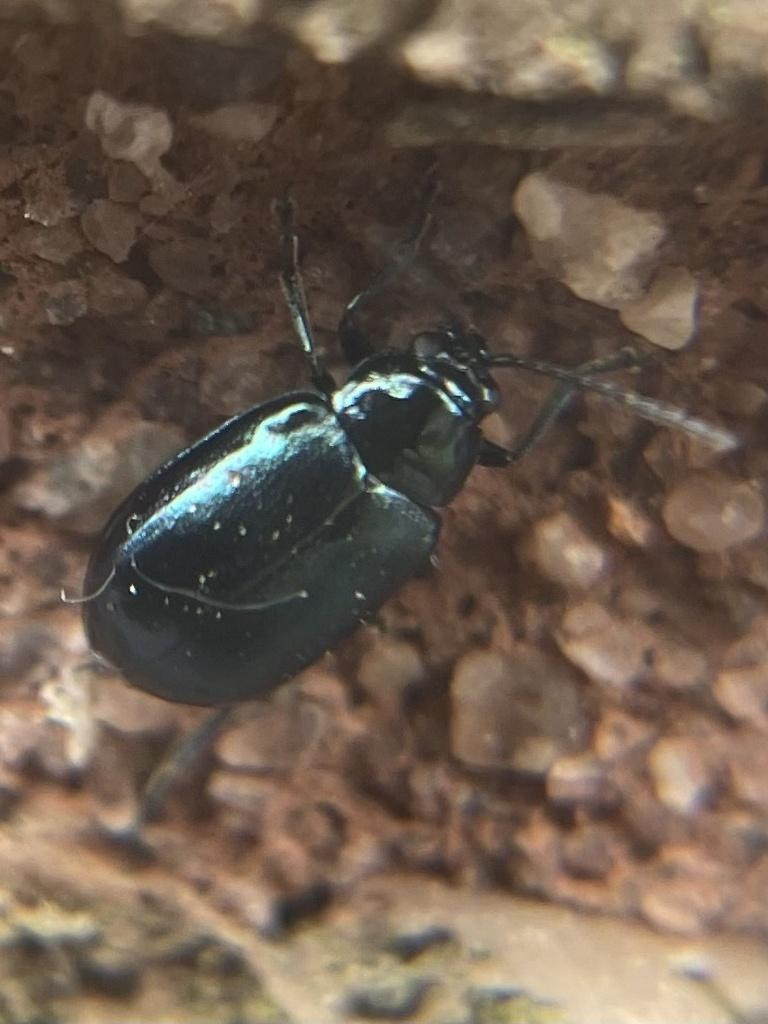flea_beetle: (0, 141, 768, 854)
